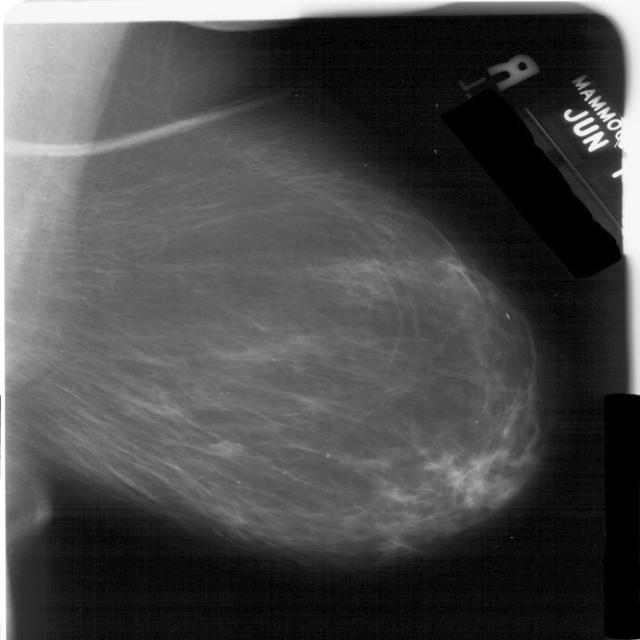tumour: (204, 438, 245, 457)
